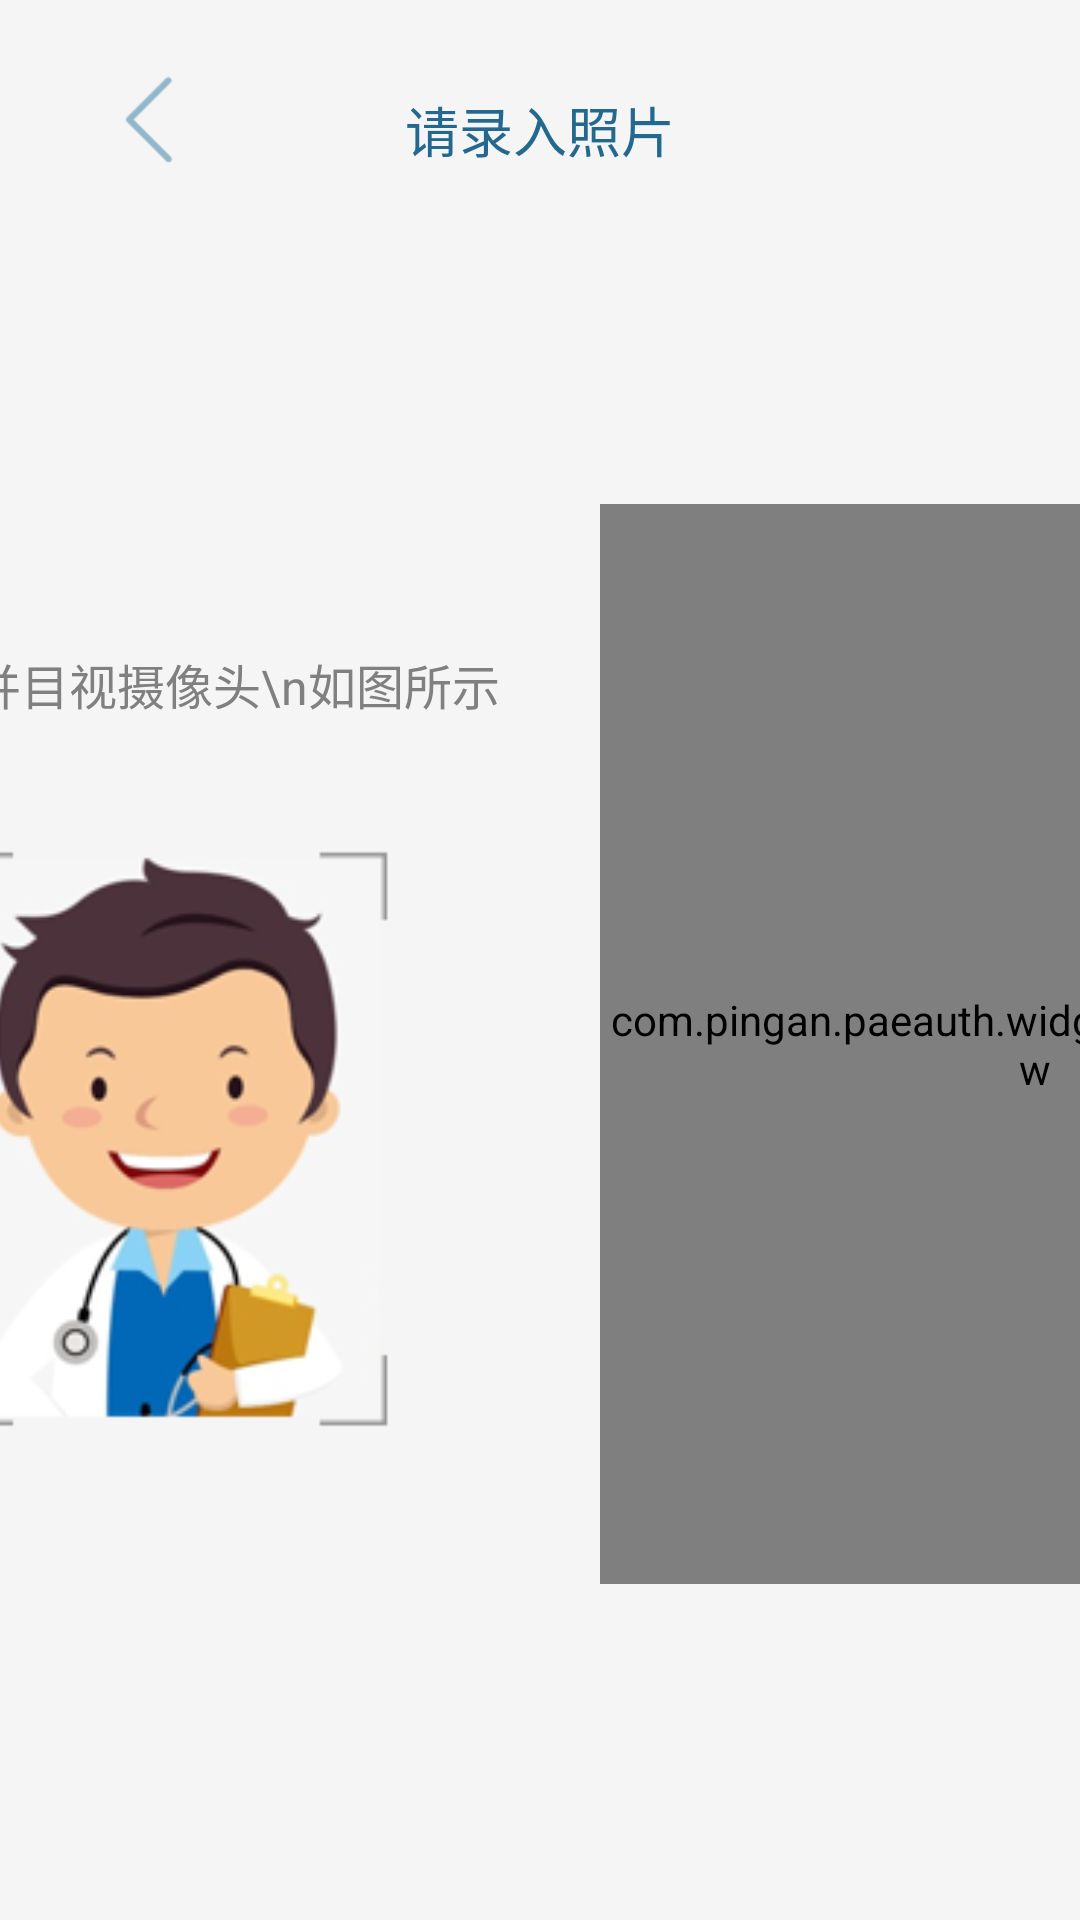

Icon click points for this 1080x1920 phone screenshot, format [x,y]:
back: [149,119]
